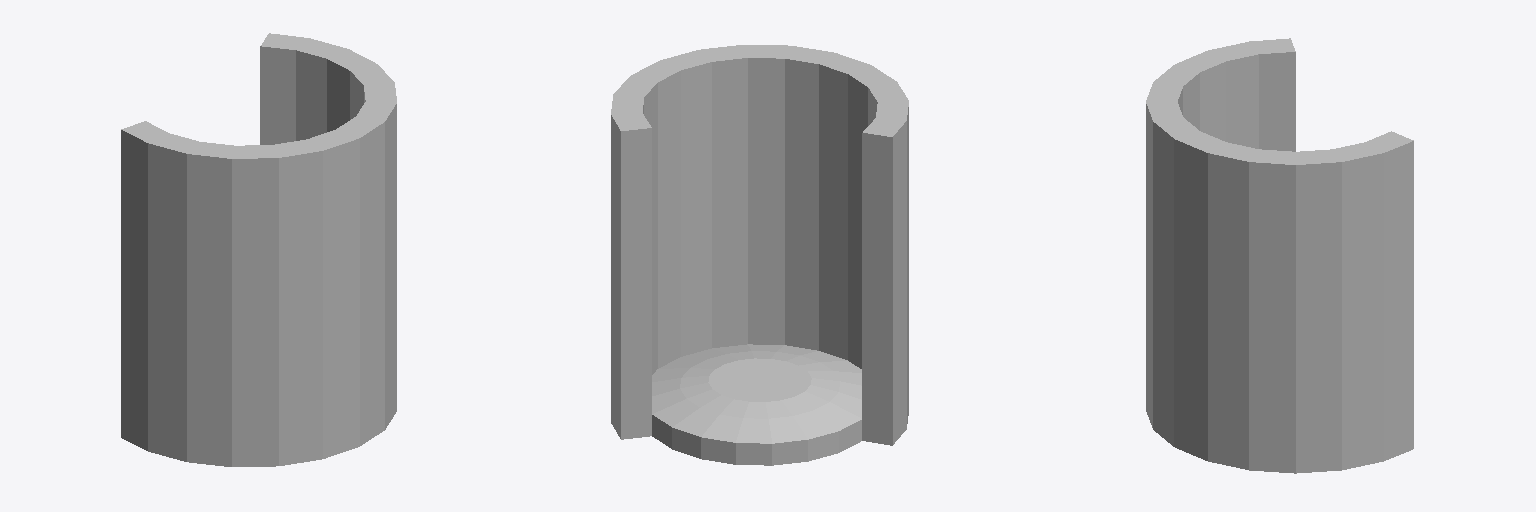
File: Elevator.obj
The picture shows the model from 3 angles: view 1: azimuth 30°, elevation 25°; view 2: azimuth 150°, elevation 25°; view 3: azimuth 270°, elevation 25°; orthographic projection.
Parts seen in each view (by area): view 1: pCylinder1; view 2: pCylinder1; view 3: pCylinder1.
Boxes of the visible parts, x1=… form: pCylinder1: x1=121, y1=33, x2=396, y2=466; pCylinder1: x1=611, y1=45, x2=908, y2=465; pCylinder1: x1=1146, y1=38, x2=1413, y2=473.
Bounding box in the file's own units: 4.62 × 5.24 × 4.13.